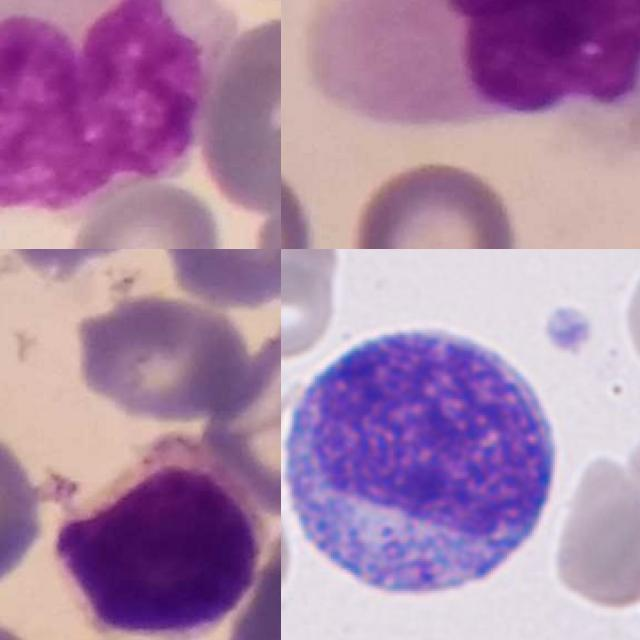Lymphocyte: (281, 310, 576, 610), (51, 433, 268, 640)
Monocyte: (0, 0, 228, 214), (306, 0, 640, 127)
Platelets: (539, 300, 599, 358)
RBC: (546, 445, 640, 615), (281, 260, 340, 359), (281, 249, 345, 303)
